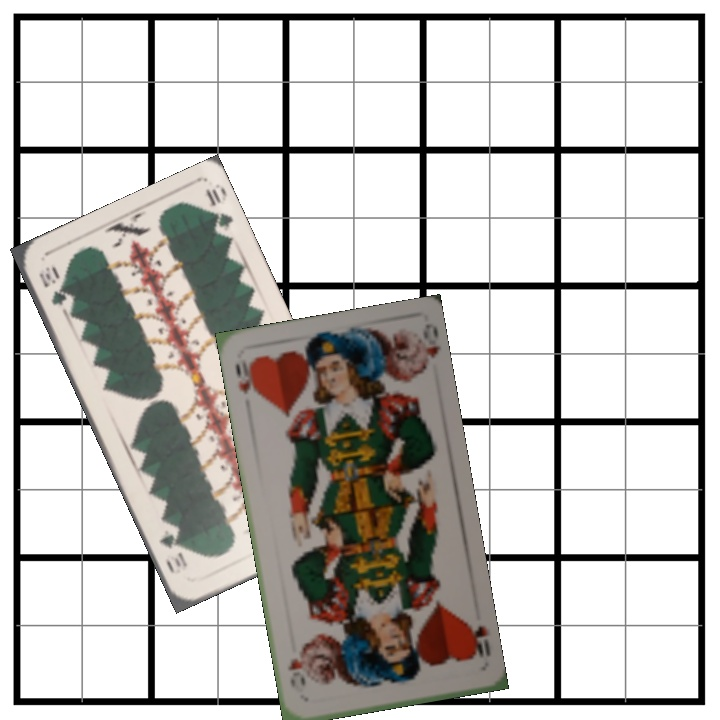G10: (35, 262, 70, 308)
HO: (461, 617, 493, 662), (231, 355, 260, 399)
